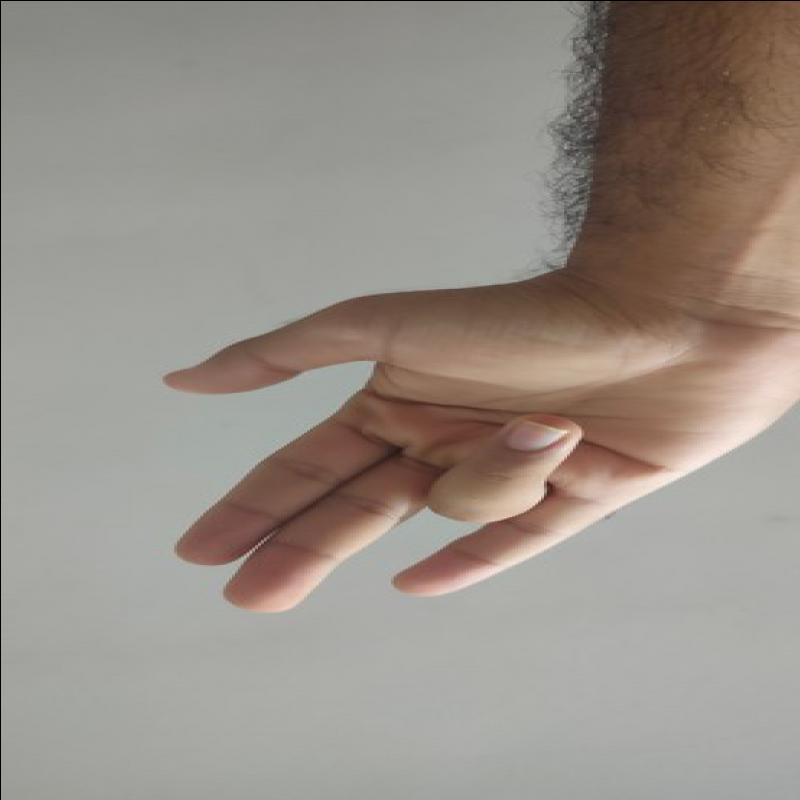Pathaaka: (122, 268, 790, 622)
